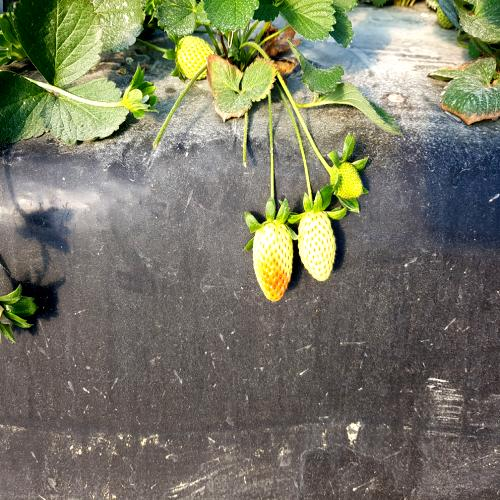partially-ripe: (249, 223, 298, 308)
unripe: (298, 210, 341, 282)
